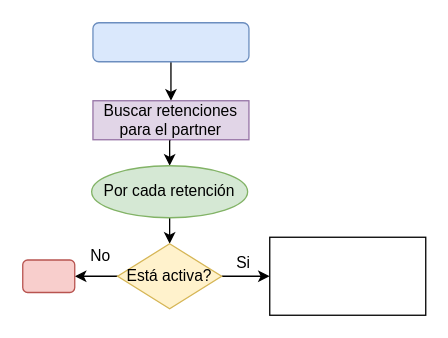
Image size: 448x338. Some labels were removed from this diagram. The shapes that lost their labels are listed below. From the top down, each one's box as (x1, y1, x2, y2) in pixels, then its label:
(92, 21, 249, 62): calculate_retentions
(21, 259, 75, 292): FIN
